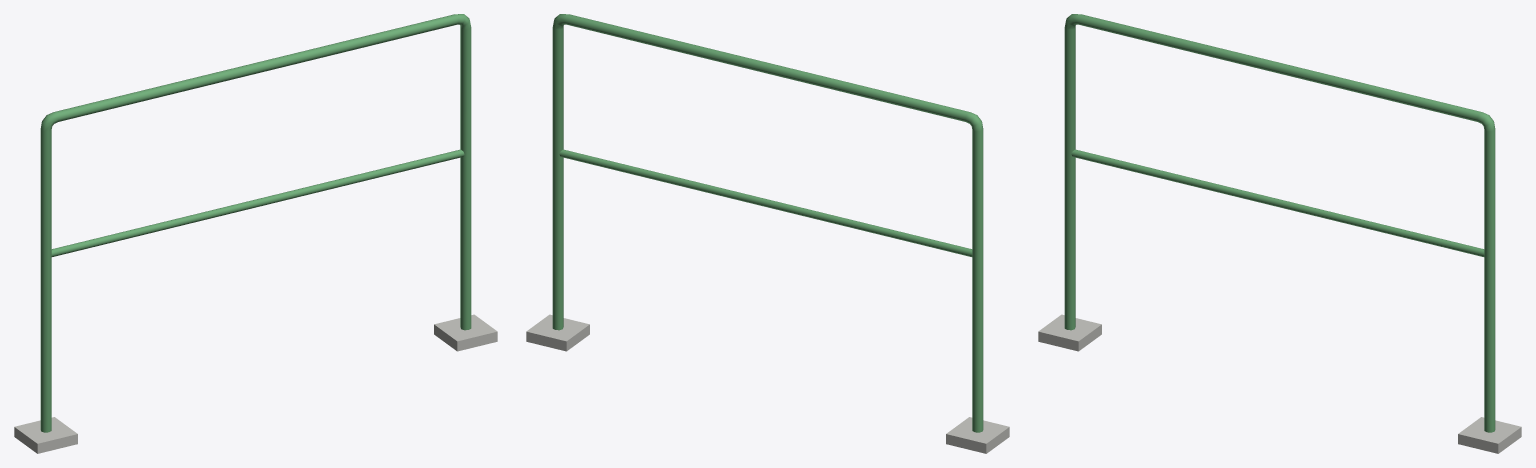
The model's file is carpet_beating_bar.glb.
3 views of the same model, side by side, from view 1: azimuth 30°, elevation 25°; view 2: azimuth 150°, elevation 25°; view 3: azimuth 330°, elevation 25° (orthographic).
Parts seen in each view (by area): view 1: carpet_beating_bar; view 2: carpet_beating_bar; view 3: carpet_beating_bar.
Boxes of the visible parts, x1,y1,x2,y2 form: carpet_beating_bar: (14, 14, 497, 453); carpet_beating_bar: (526, 14, 1009, 453); carpet_beating_bar: (1038, 14, 1521, 453).
Size of the model in its own units: 2.85 by 1.93 by 0.25.
